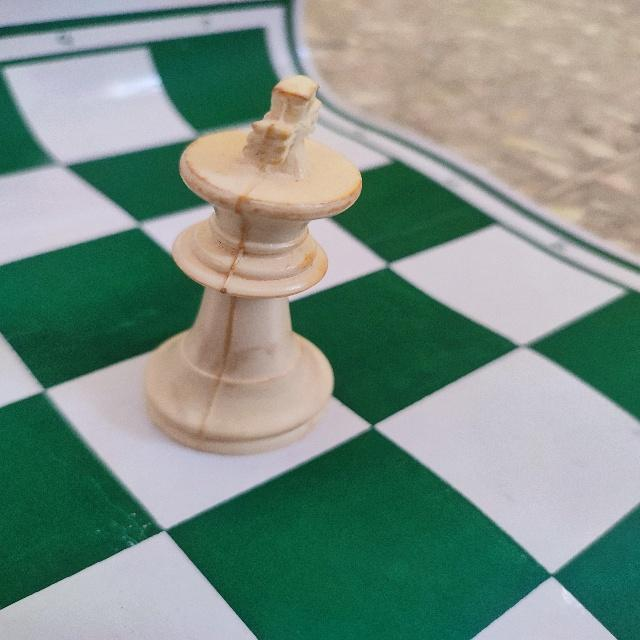King: (139, 71, 367, 460)
